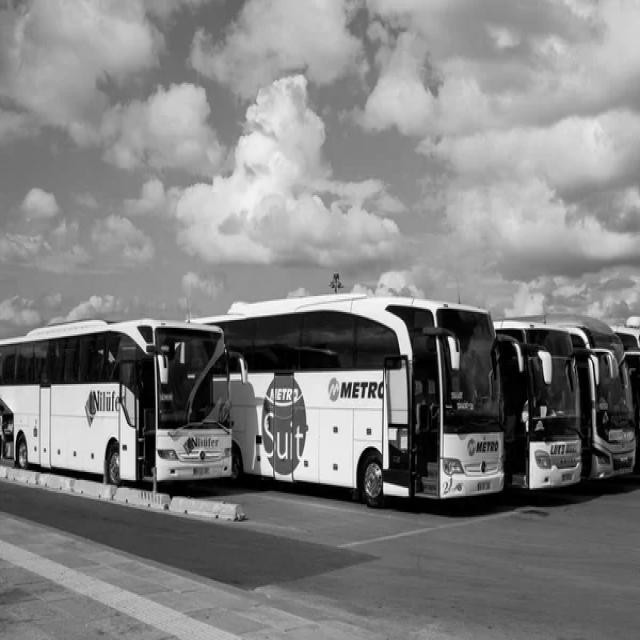Bus: (200, 293, 506, 506), (0, 320, 230, 483), (497, 322, 582, 488), (562, 322, 638, 479)
